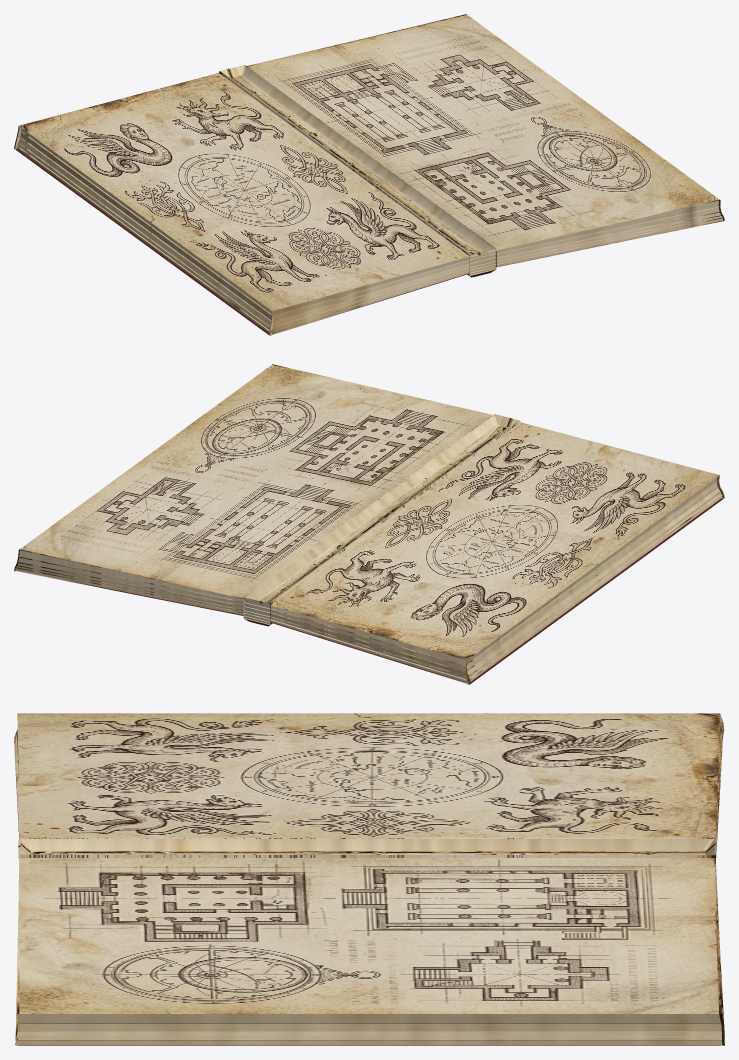
File: ancient_mystical_grimoire_3d.glb
3 renders of one model, top to bottom at view 1: azimuth 30°, elevation 25°; view 2: azimuth 150°, elevation 25°; view 3: azimuth 270°, elevation 25°, orthographic. The views are drawn at different scales.
Parts seen in each view (by area): view 1: Plane.001; view 2: Plane.001; view 3: Plane.001.
Part boxes in pixels (left/top/right/bottom): Plane.001: left=14, top=14, right=724, bottom=335; Plane.001: left=14, top=364, right=724, bottom=684; Plane.001: left=14, top=713, right=724, bottom=1045.
Bounding box in the file's own units: 2.1 × 0.1343 × 2.05.
2 materials, 2 textured.
